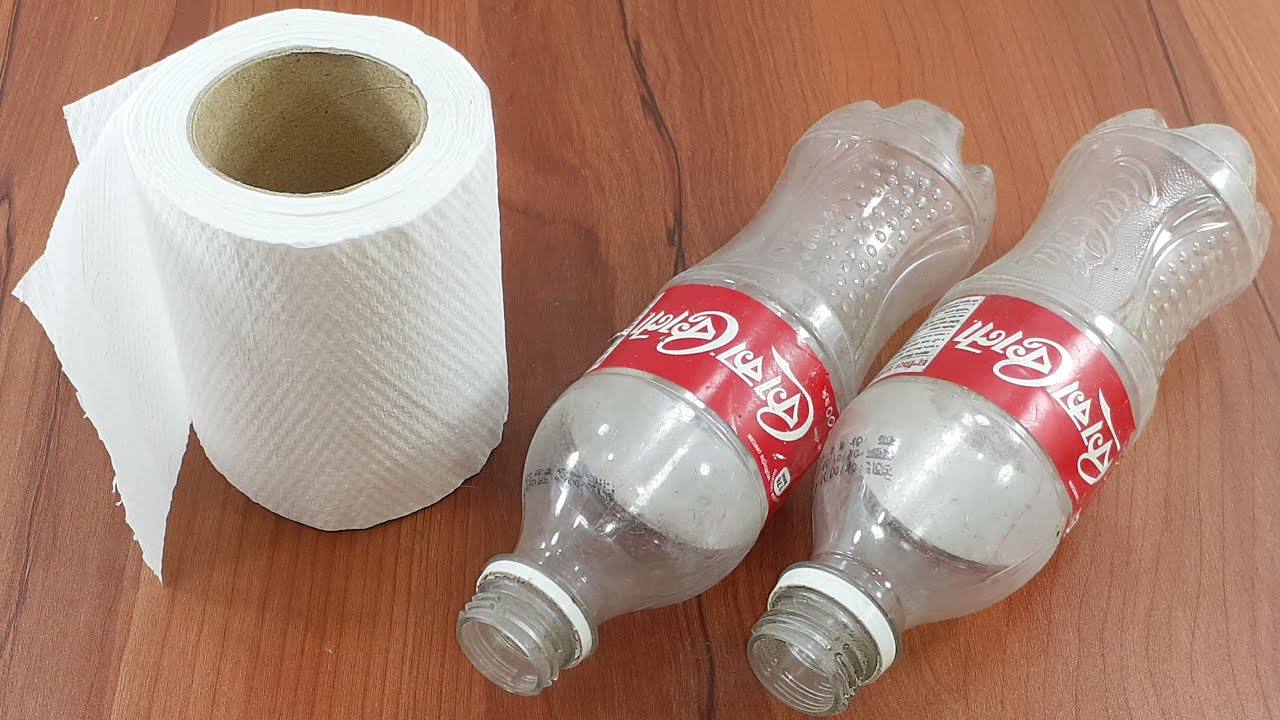Tissue: (6, 8, 515, 586)
